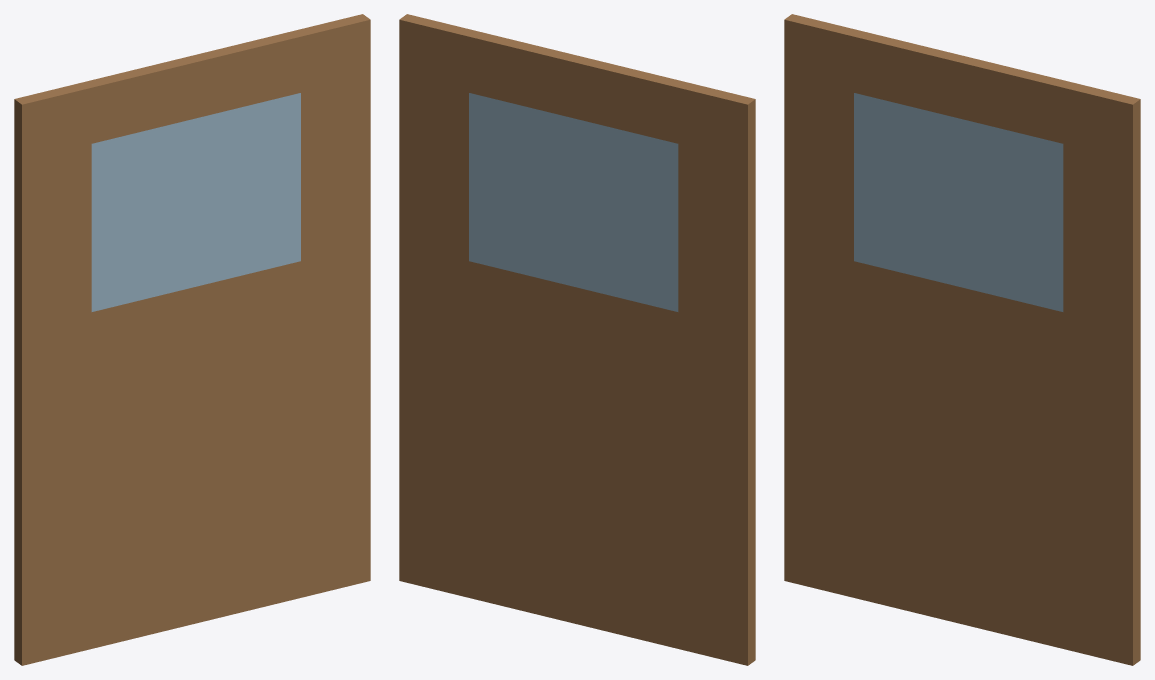
The model's file is outside_door.obj.
3 views of the same model, side by side, from view 1: azimuth 30°, elevation 25°; view 2: azimuth 150°, elevation 25°; view 3: azimuth 330°, elevation 25° (orthographic).
Visible parts, largest first — view 1: pCube1; view 2: pCube1; view 3: pCube1.
Part boxes in pixels (x1,y1,x2,y2): pCube1: (14,14,370,665); pCube1: (399,14,755,665); pCube1: (784,14,1140,665).
Bounding box in the file's own units: 1.3 × 2 × 0.05.
Materials: 2 (2 with a texture image).
